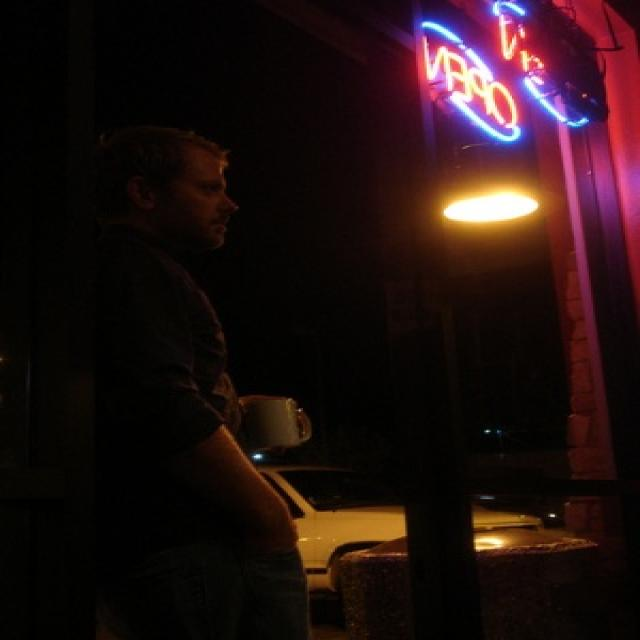car: (222, 426, 640, 602)
